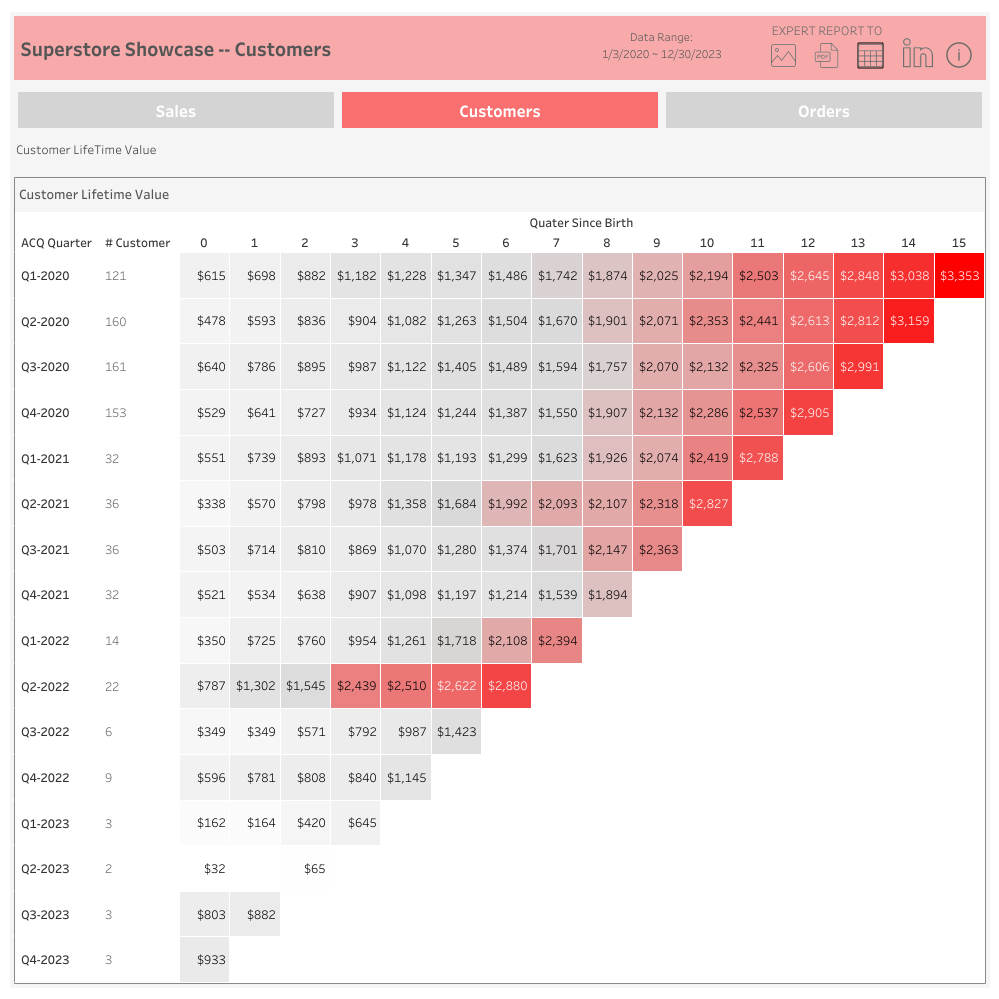

The page's visual inventory and layout, read from the dashboard file:
{"tool":"tableau","page":{"name":"Customers","canvas":[1000,1000],"ordinal":0},"visuals":[{"type":"text","box":[10,12,980,72]},{"type":"text","box":[752,20,150,19]},{"type":"worksheet","title":"Last Updated","mark":"Automatic","box":[541,22,242,47]},{"type":"image","param":"Image/linkedin (1).png","box":[903,38,30,30]},{"type":"worksheet","title":"Info button","mark":"Shape","box":[943,39,30,30]},{"type":"dashboard-object","box":[771,43,25,25]},{"type":"dashboard-object","box":[814,43,25,25]},{"type":"dashboard-object","box":[858,43,25,25]},{"type":"dashboard-object","box":[14,88,324,44]},{"type":"dashboard-object","box":[338,88,324,44]},{"type":"dashboard-object","box":[662,88,324,44]},{"type":"parameter","param":"[Parameters].[Parameter 5]","box":[10,136,980,34]},{"type":"worksheet","title":"LTV","mark":"Square","rows":["Calculation_565483286667849728","Calculation_565483286671613955"],"cols":["Calculation_565483286669598722"],"box":[10,170,980,818]},{"type":"worksheet","title":"Churn","mark":"Square","rows":["Calculation_565483286667849728","Calculation_565483286671613955"],"cols":["Calculation_565483286669598722"],"box":[10,170,980,818]}]}

Visuals, with their boxes in screenshot pixels (x1, y1, x2, y2), scaled from the page's 1000x1000 canvas onto the 999x999 screenshot:
text: 10, 12, 989, 84
text: 751, 20, 901, 39
"Last Updated" worksheet: 540, 22, 782, 69
image: 902, 38, 932, 68
"Info button" worksheet (Shape marks): 942, 39, 972, 69
dashboard-object: 770, 43, 795, 68
dashboard-object: 813, 43, 838, 68
dashboard-object: 857, 43, 882, 68
dashboard-object: 14, 88, 338, 132
dashboard-object: 338, 88, 661, 132
dashboard-object: 661, 88, 985, 132
parameter: 10, 136, 989, 170
"LTV" worksheet (Square marks): 10, 170, 989, 987
"Churn" worksheet (Square marks): 10, 170, 989, 987
